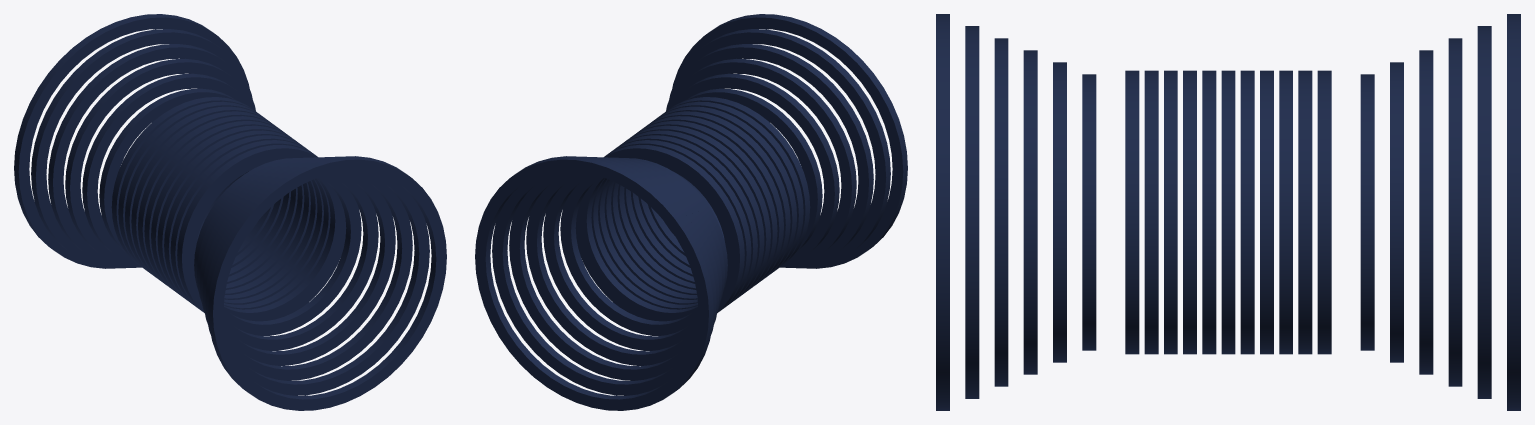
The model's file is srw_coils.obj.
3 views of the same model, side by side, from view 1: azimuth 30°, elevation 25°; view 2: azimuth 150°, elevation 25°; view 3: azimuth 270°, elevation 25° (orthographic). The views are drawn at different scales.
Visible parts, largest first — view 1: srw_coils; view 2: srw_coils; view 3: srw_coils.
Boxes of the visible parts, x1,y1,x2,y2 form: srw_coils: [14, 14, 446, 410]; srw_coils: [475, 14, 907, 410]; srw_coils: [936, 14, 1520, 410].
Bounding box in the file's own units: 2.39 × 2.39 × 3.52.
